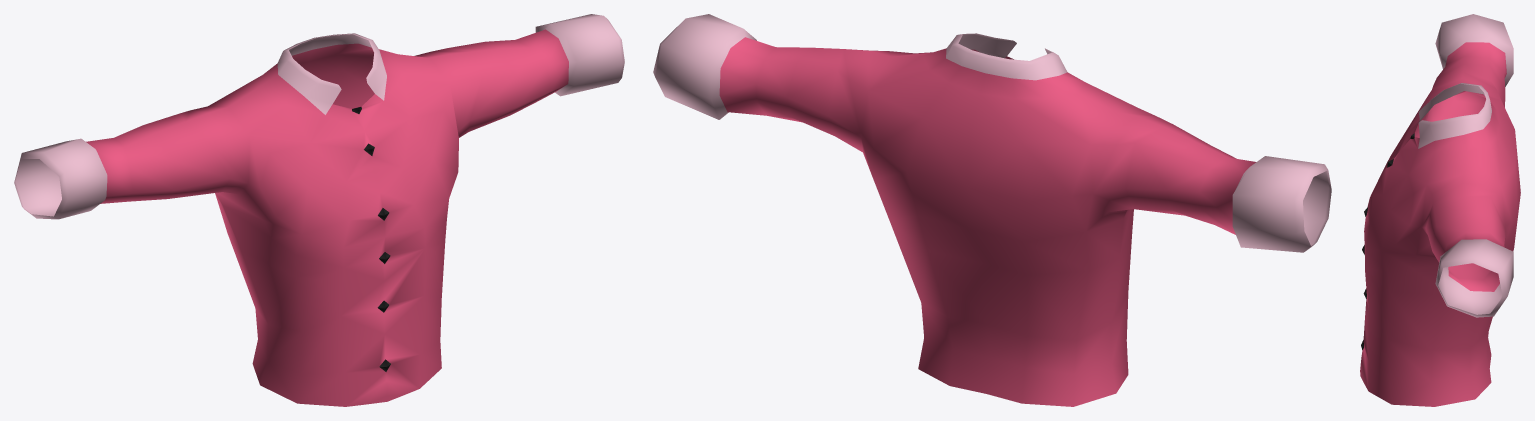
File: Shirt_02.fbx
The picture shows the model from 3 angles, left to right: view 1: azimuth 30°, elevation 25°; view 2: azimuth 150°, elevation 25°; view 3: azimuth 270°, elevation 25°; orthographic projection. The views are drawn at different scales.
Parts seen in each view (by area): view 1: Shirt_02; view 2: Shirt_02; view 3: Shirt_02.
Part boxes in pixels (bbox=[...]): Shirt_02: bbox=[14, 14, 624, 406]; Shirt_02: bbox=[653, 14, 1331, 406]; Shirt_02: bbox=[1360, 14, 1520, 406].
Bounding box in the file's own units: 104 × 53.01 × 27.92.
